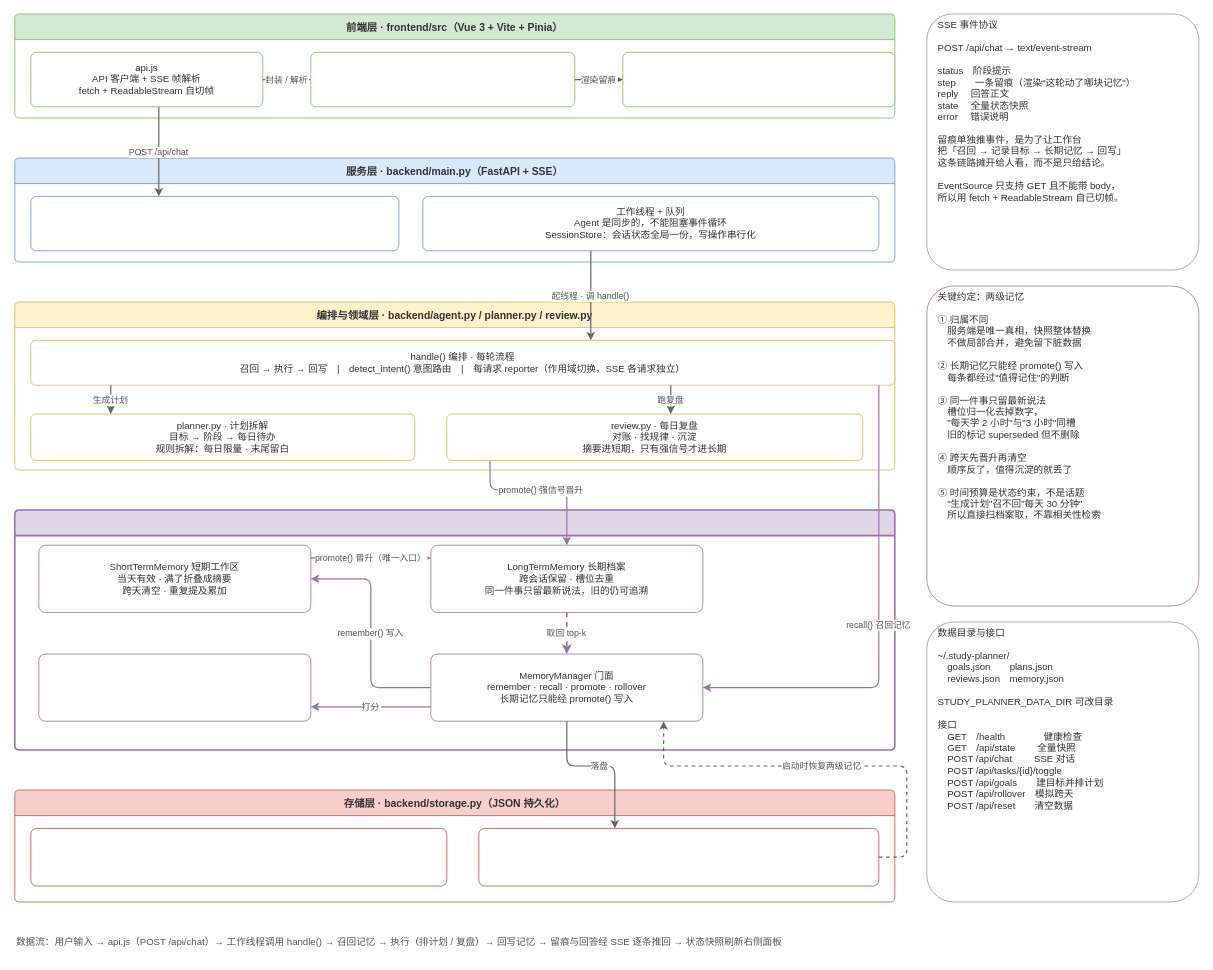
Image size: 1213x970. Some labels were removed from this diagram. Each missing label, with the box of its shape:
ChatPanel.vue + SidePanel.vue 对话区与留痕轨迹 · 今日 / 目标 / 记忆面板: (622, 52, 895, 107)
goals.json · plans.json 目标与每日待办: (30, 828, 447, 886)
reviews.json · memory.json 复盘记录与两级记忆: (478, 828, 879, 886)
stores/planner.js · Pinia 状态中枢 服务端镜像整体替换 · 乐观更新回滚 · 序号防乱序: (310, 52, 575, 107)
tokenize · recall_score 中文按二元组切分 打分：词片重合 + 重要度 + 新鲜度 + 频次: (38, 653, 311, 721)
接口层 POST /api/chat → SSE 流式对话 GET /api/state 等 → REST 状态快照: (30, 196, 399, 251)
记忆层 · backend/memory.py ★ 本示例重点: (14, 509, 895, 750)
